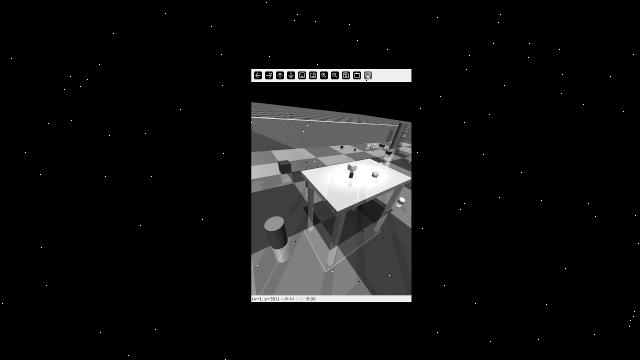cilindro: (263, 215, 289, 248), (387, 122, 410, 149), (348, 171, 355, 178), (378, 143, 387, 148), (409, 156, 411, 161)
cuadrado: (276, 158, 296, 175), (347, 161, 357, 171), (385, 150, 393, 155), (387, 147, 394, 152), (389, 144, 394, 150), (340, 144, 345, 149), (366, 144, 371, 148), (337, 149, 341, 152)
esfera: (370, 169, 380, 179), (398, 196, 408, 205), (377, 160, 385, 165), (371, 148, 377, 151), (353, 147, 356, 152), (372, 143, 376, 146)
